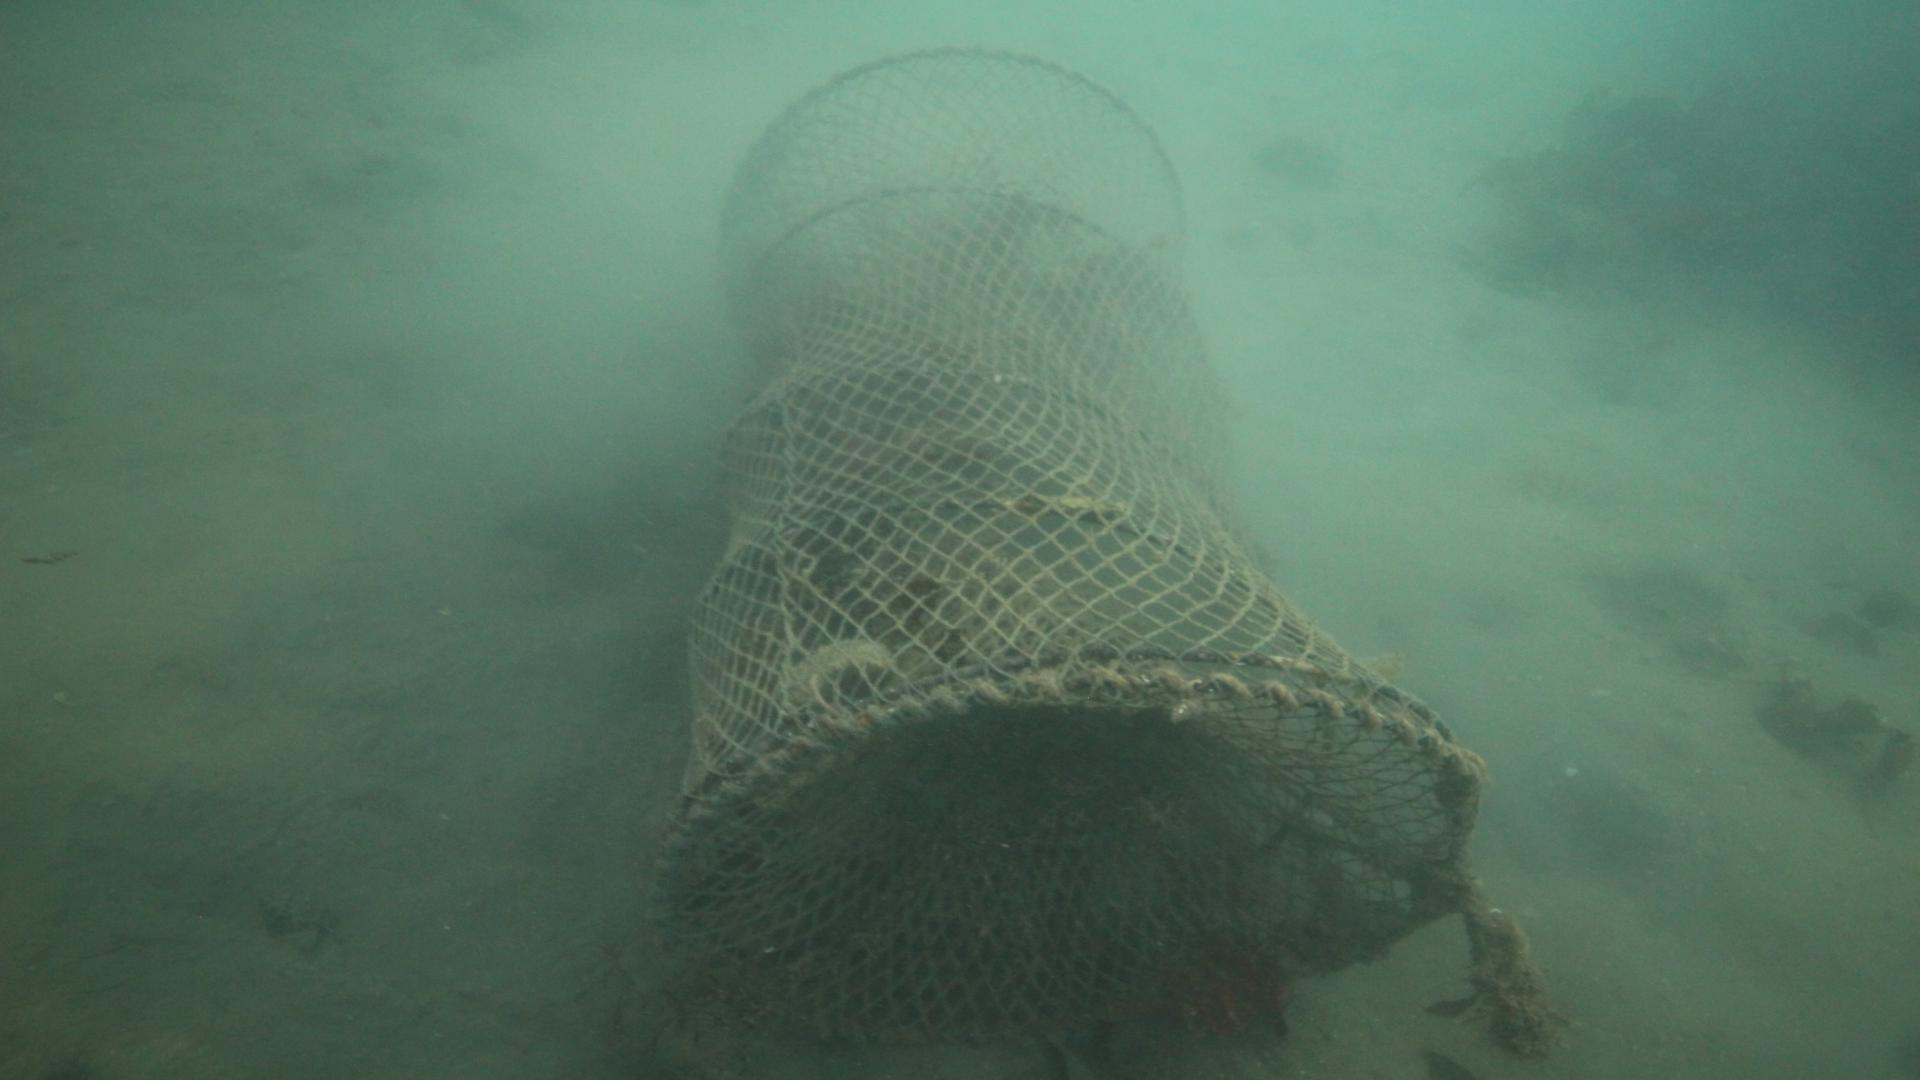spring fish trap: (646, 42, 1484, 1044)
